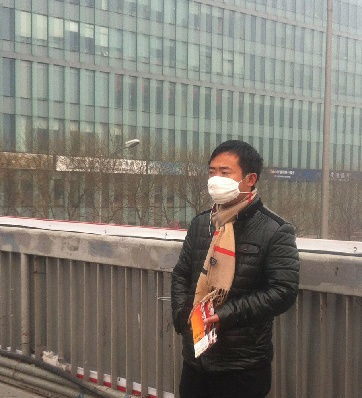face_mask: (207, 152, 244, 202)
